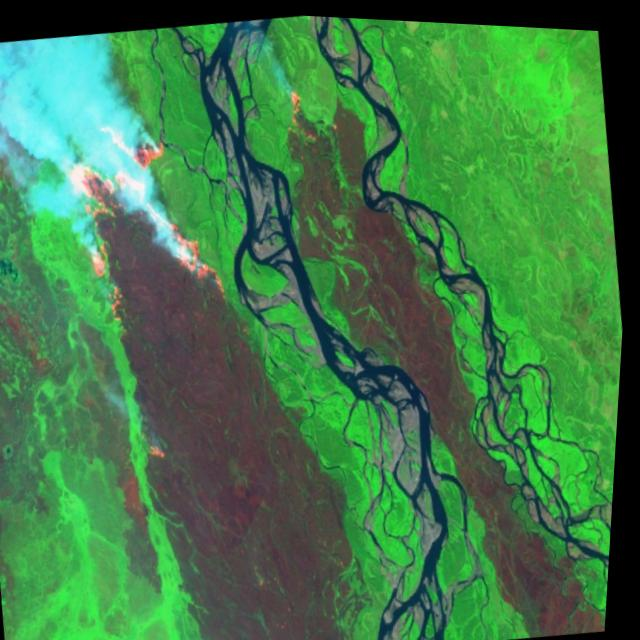fire: (46, 95, 248, 340), (271, 72, 355, 163), (141, 424, 184, 471)
